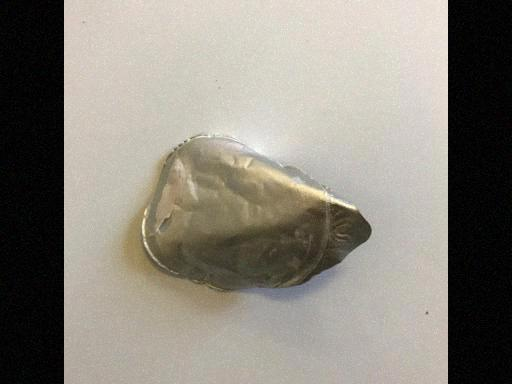trash: (140, 134, 372, 292)
